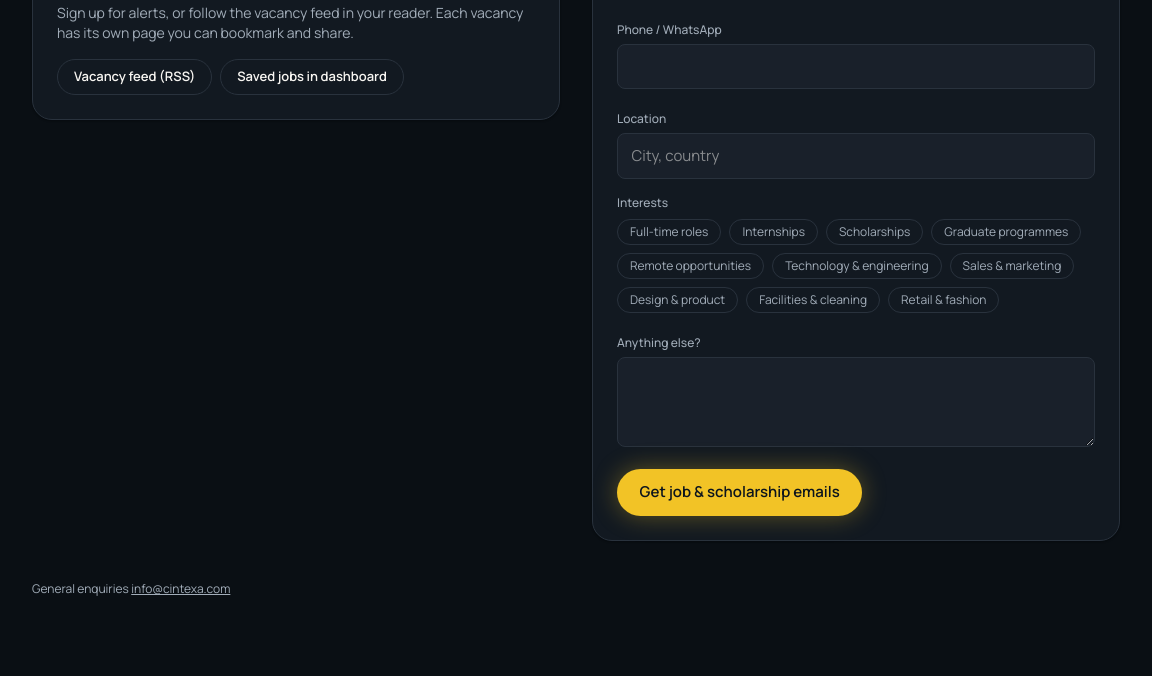
Test: /careers list › the alert form is on the page and rejects bad input
The image size is (1152, 676).
(page scrolled)
What coordinates should you click on to do the following:
click the button "Get job & scholarship emails"
I would click on:
 (740, 492)
Its box is [617,469,862,516].
(page scrolled)
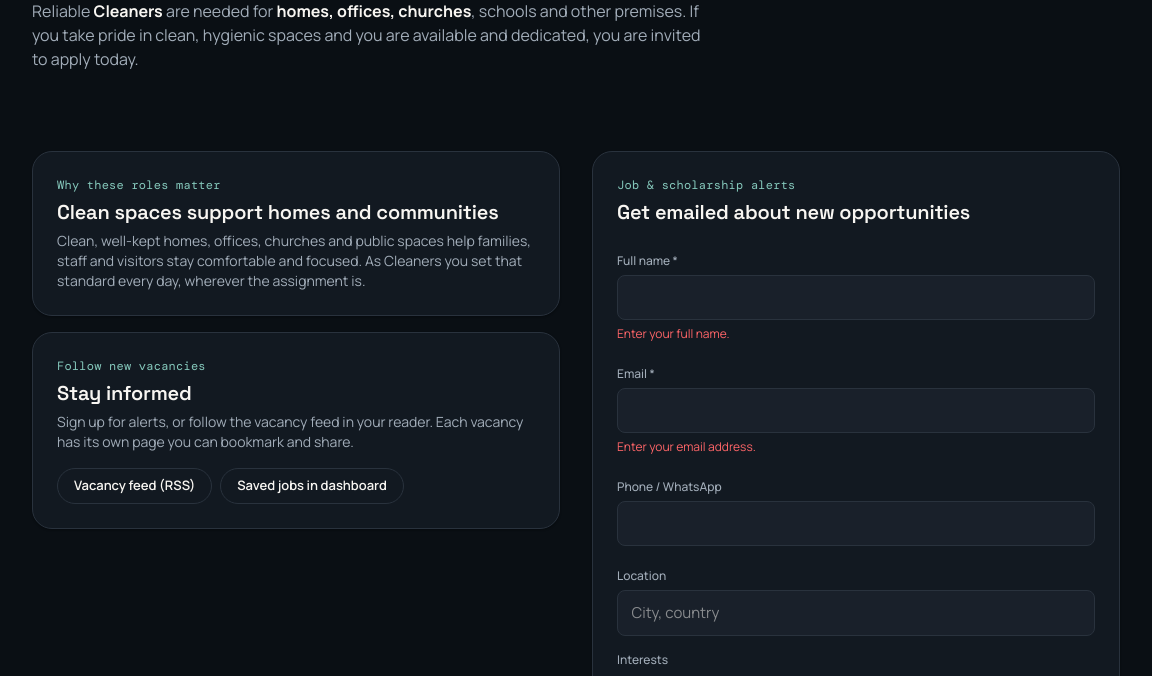
Check: the text "Enter your full name." is shown, box [617,325,730,342]
